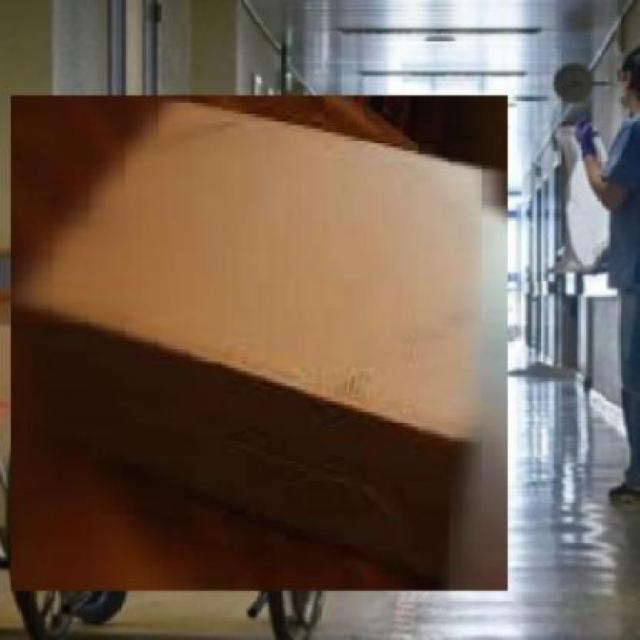box: (4, 87, 516, 601)
